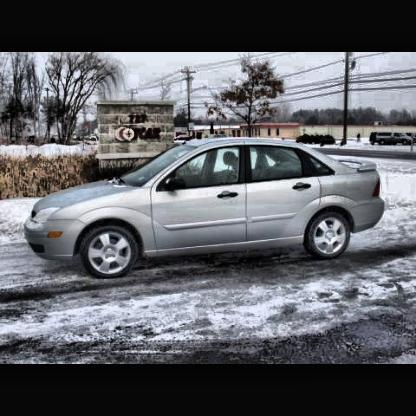Ford Focus Sedan 2007: (27, 140, 386, 278)
